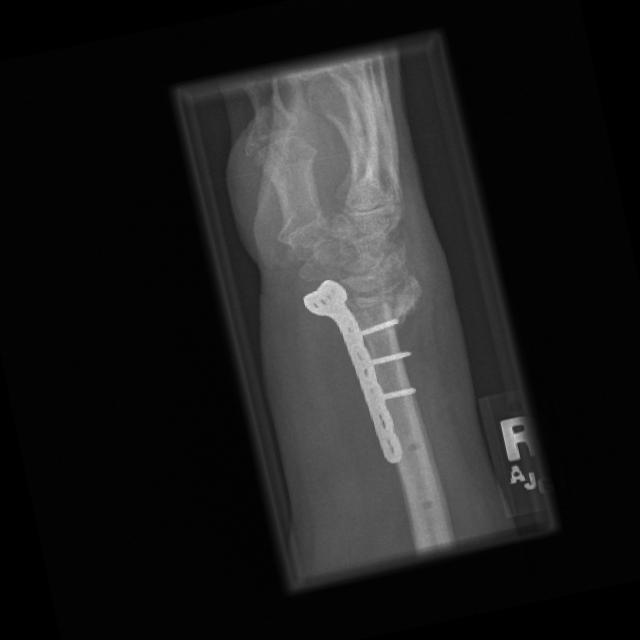fingers positive: (308, 267, 449, 352)
